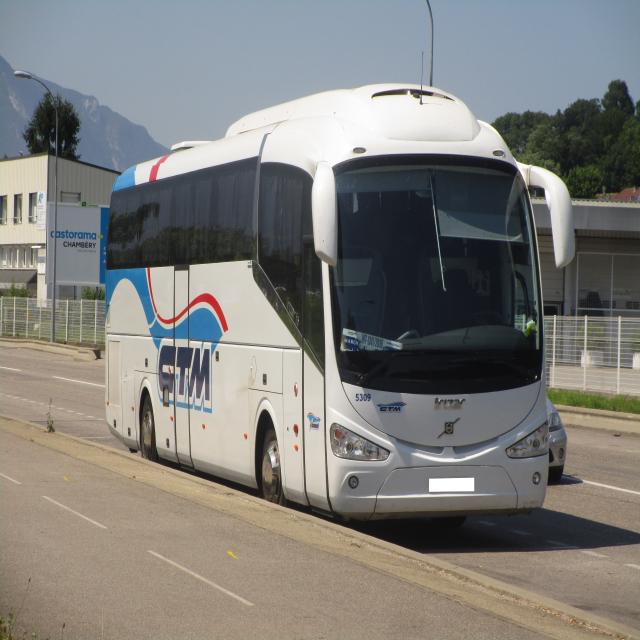Bus: (104, 83, 575, 521)
